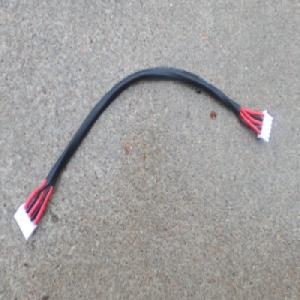Wire: (12, 64, 274, 242)
